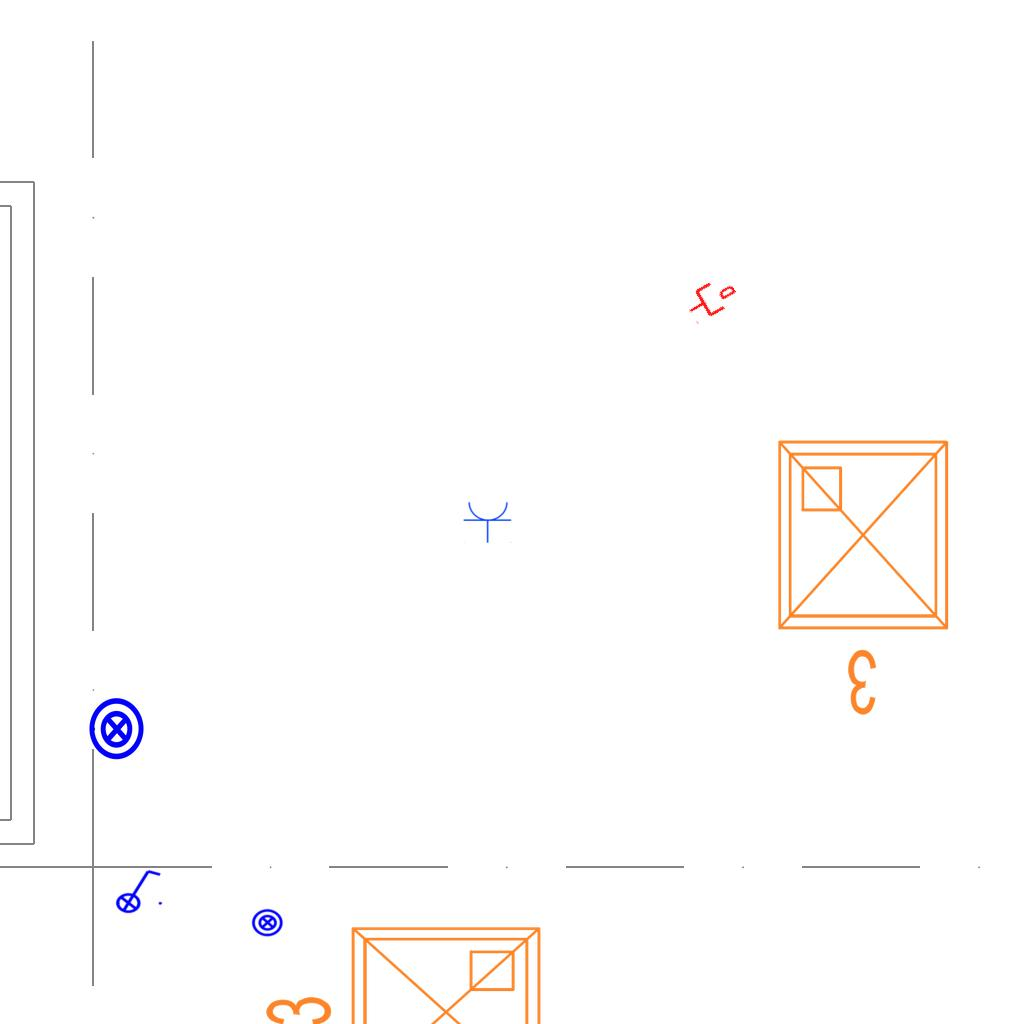Ausschalter_beleuchtet: (109, 866, 165, 914)
Datenanschluss_einfach: (680, 271, 742, 327)
Einbaudownlights_LED_Konferenzraeume: (763, 426, 971, 726), (255, 912, 555, 1024)
Schukosteckdose_einfach: (463, 500, 513, 543)
Taster_beleuchtet: (84, 696, 150, 762), (251, 906, 284, 939)
